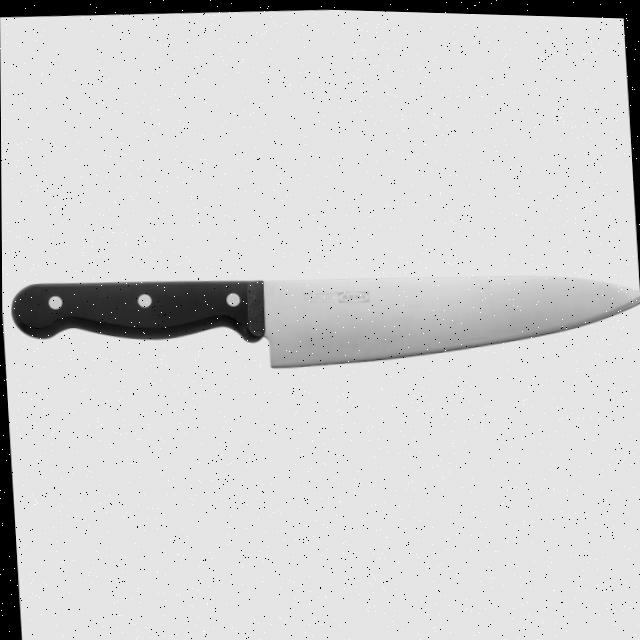knife: (4, 238, 640, 391)
